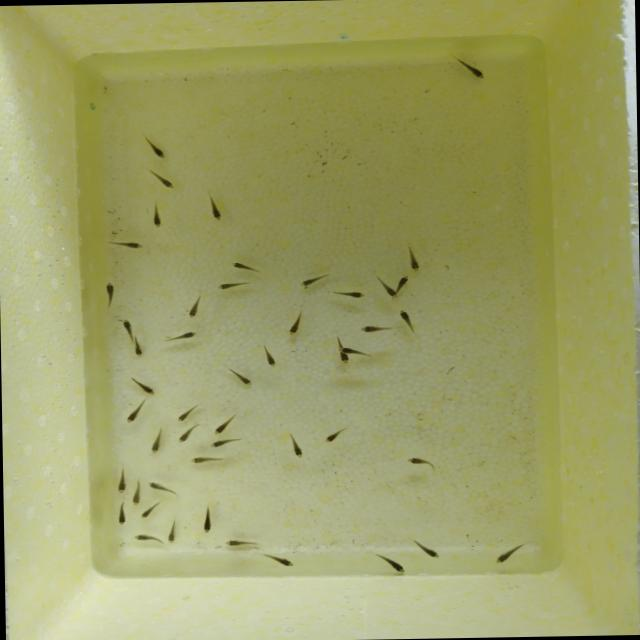fingerling: (112, 309, 140, 342), (327, 340, 368, 360), (458, 62, 494, 82), (99, 274, 122, 304), (396, 309, 420, 336), (112, 235, 146, 254), (156, 525, 185, 545), (284, 436, 307, 460), (144, 138, 168, 161), (260, 346, 282, 371), (292, 272, 322, 290), (124, 402, 144, 428), (402, 252, 423, 276), (268, 554, 299, 570), (403, 452, 430, 470), (492, 546, 516, 566), (386, 556, 410, 576), (124, 530, 154, 546), (146, 476, 170, 496), (204, 203, 228, 223), (210, 280, 248, 292), (228, 257, 253, 275), (173, 328, 200, 344), (414, 544, 444, 558), (284, 318, 302, 340), (156, 170, 173, 193), (180, 302, 204, 318), (358, 322, 385, 336), (232, 372, 258, 386), (146, 435, 164, 455), (174, 407, 192, 426), (136, 379, 154, 398), (186, 454, 220, 464), (127, 342, 148, 358), (218, 536, 250, 546), (320, 431, 344, 444), (130, 486, 144, 508), (336, 349, 354, 366), (200, 514, 215, 534), (138, 505, 156, 521), (395, 275, 412, 291), (202, 440, 235, 448), (150, 206, 162, 228), (213, 420, 230, 435), (116, 474, 128, 495), (179, 427, 192, 446), (342, 290, 368, 298), (385, 284, 397, 300), (119, 507, 128, 528)
